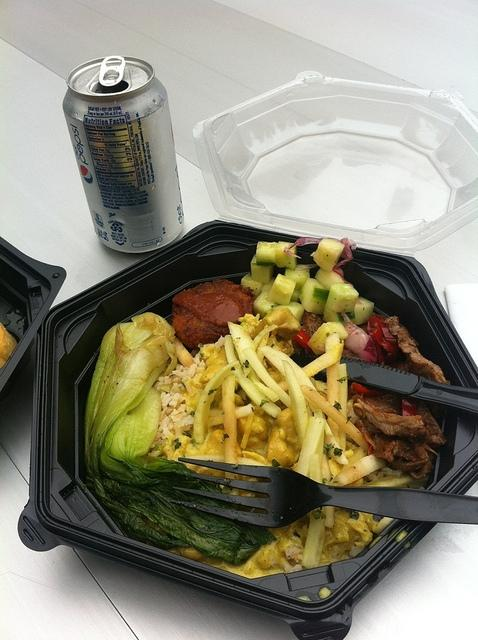vegetable marrow: (298, 277, 330, 315), (310, 238, 345, 272), (326, 284, 359, 312), (268, 274, 296, 306), (254, 290, 282, 320), (272, 301, 305, 324), (251, 253, 274, 284), (350, 297, 374, 325), (314, 268, 344, 290), (241, 272, 264, 300), (284, 268, 311, 290), (256, 241, 278, 267), (276, 242, 296, 270)
